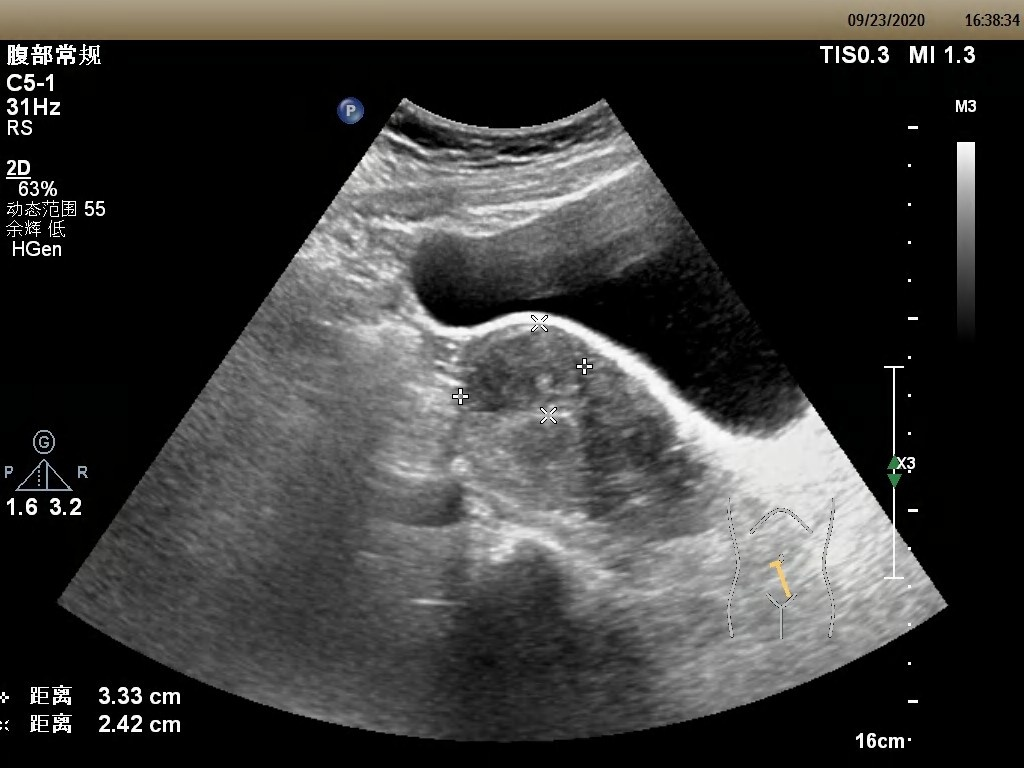肌瘤: (459, 325, 589, 415)
